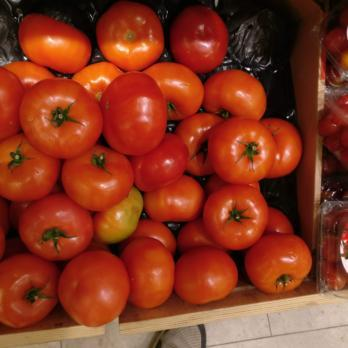Tomato: (0, 66, 312, 326), (93, 2, 167, 70), (166, 3, 235, 71), (15, 12, 94, 71)
